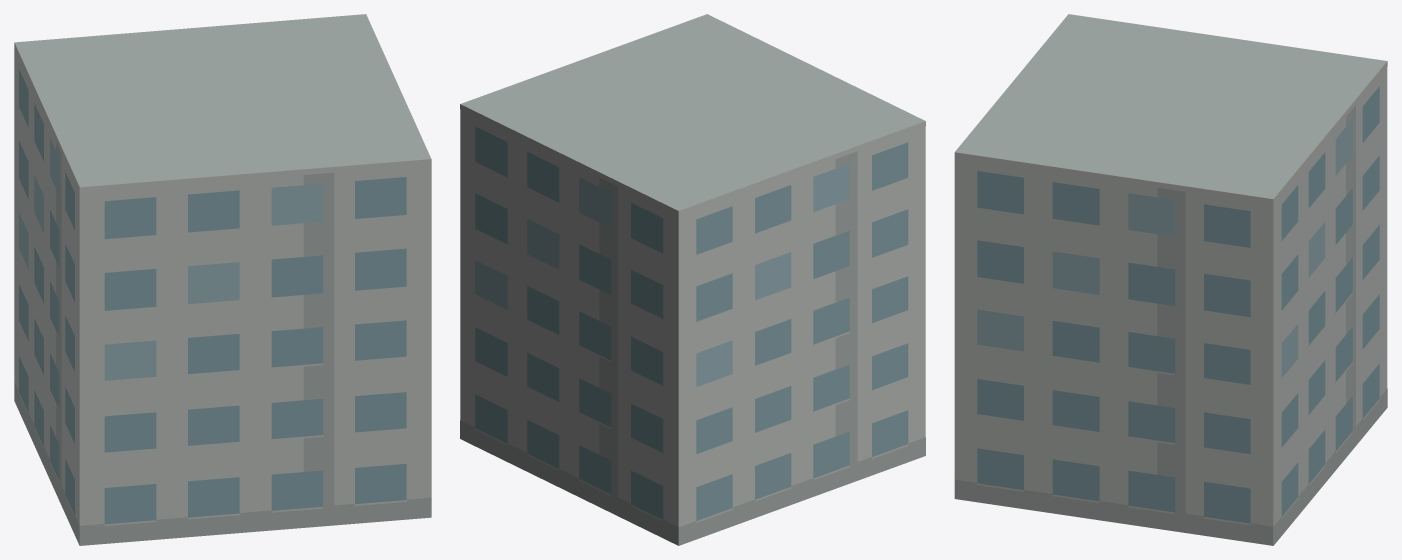
File: residential-e2cbfa3b-8d90-45bb-8910-007e47e95de0.glb
3 views of the same model, side by side, from view 1: azimuth 30°, elevation 25°; view 2: azimuth 150°, elevation 25°; view 3: azimuth 270°, elevation 25° (orthographic). The views are drawn at different scales.
Visible parts, largest first — view 1: residential-e2cbfa3b-8d90-45bb-8910-007e47e95de0.tmp; view 2: residential-e2cbfa3b-8d90-45bb-8910-007e47e95de0.tmp; view 3: residential-e2cbfa3b-8d90-45bb-8910-007e47e95de0.tmp.
Part boxes in pixels (left/top/right/bottom): residential-e2cbfa3b-8d90-45bb-8910-007e47e95de0.tmp: left=14, top=14, right=431, bottom=545; residential-e2cbfa3b-8d90-45bb-8910-007e47e95de0.tmp: left=460, top=14, right=925, bottom=545; residential-e2cbfa3b-8d90-45bb-8910-007e47e95de0.tmp: left=954, top=14, right=1387, bottom=545.
Bounding box in the file's own units: 17.48 × 15.25 × 17.27.
